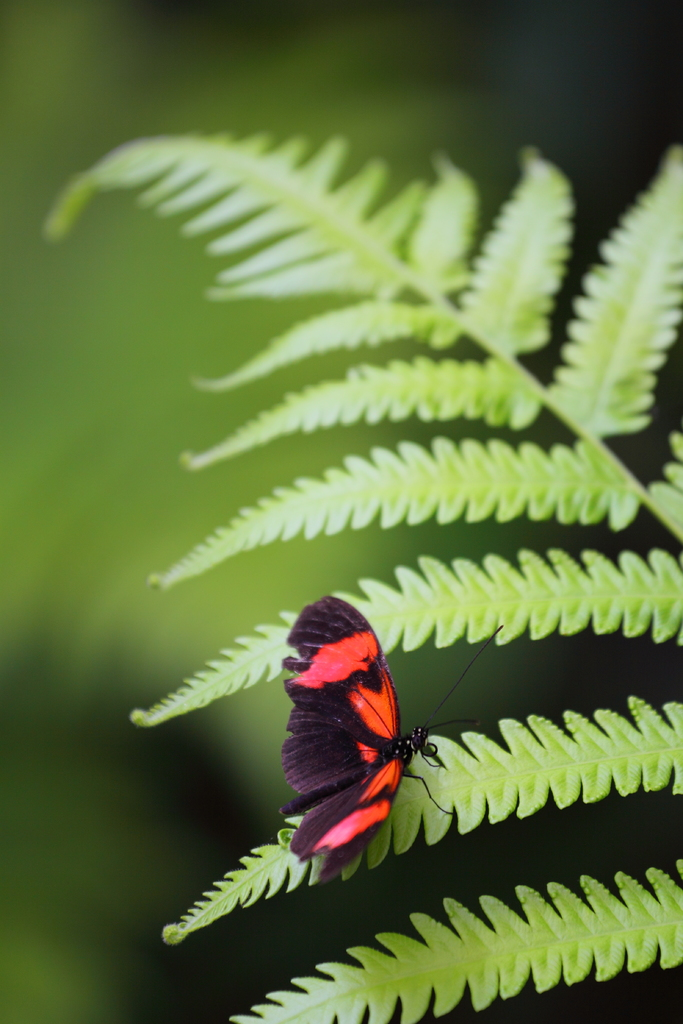Butterfly: (254, 577, 504, 863)
